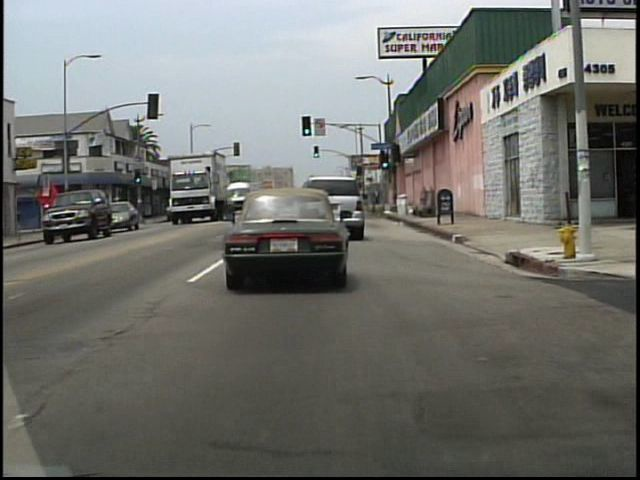person: (71, 203, 83, 228)
